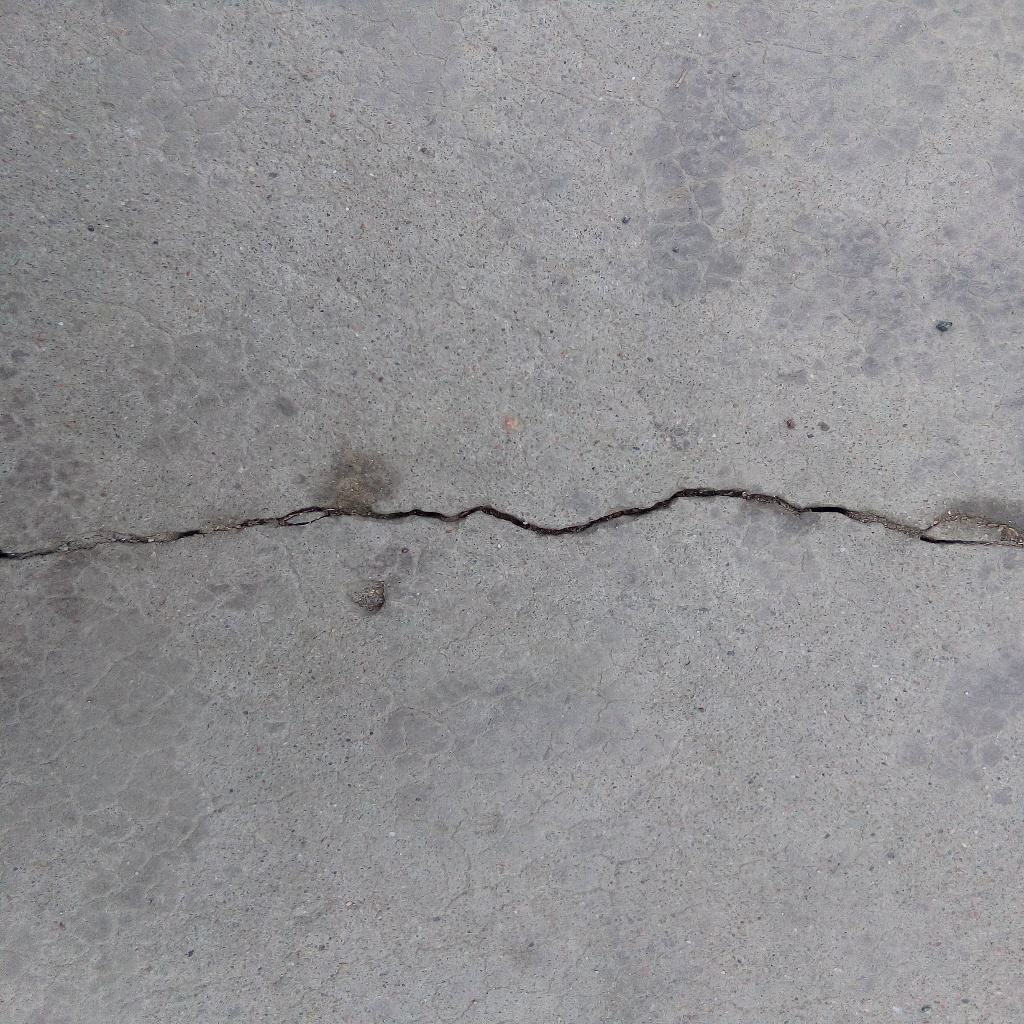Crack: (1, 484, 1024, 564)
